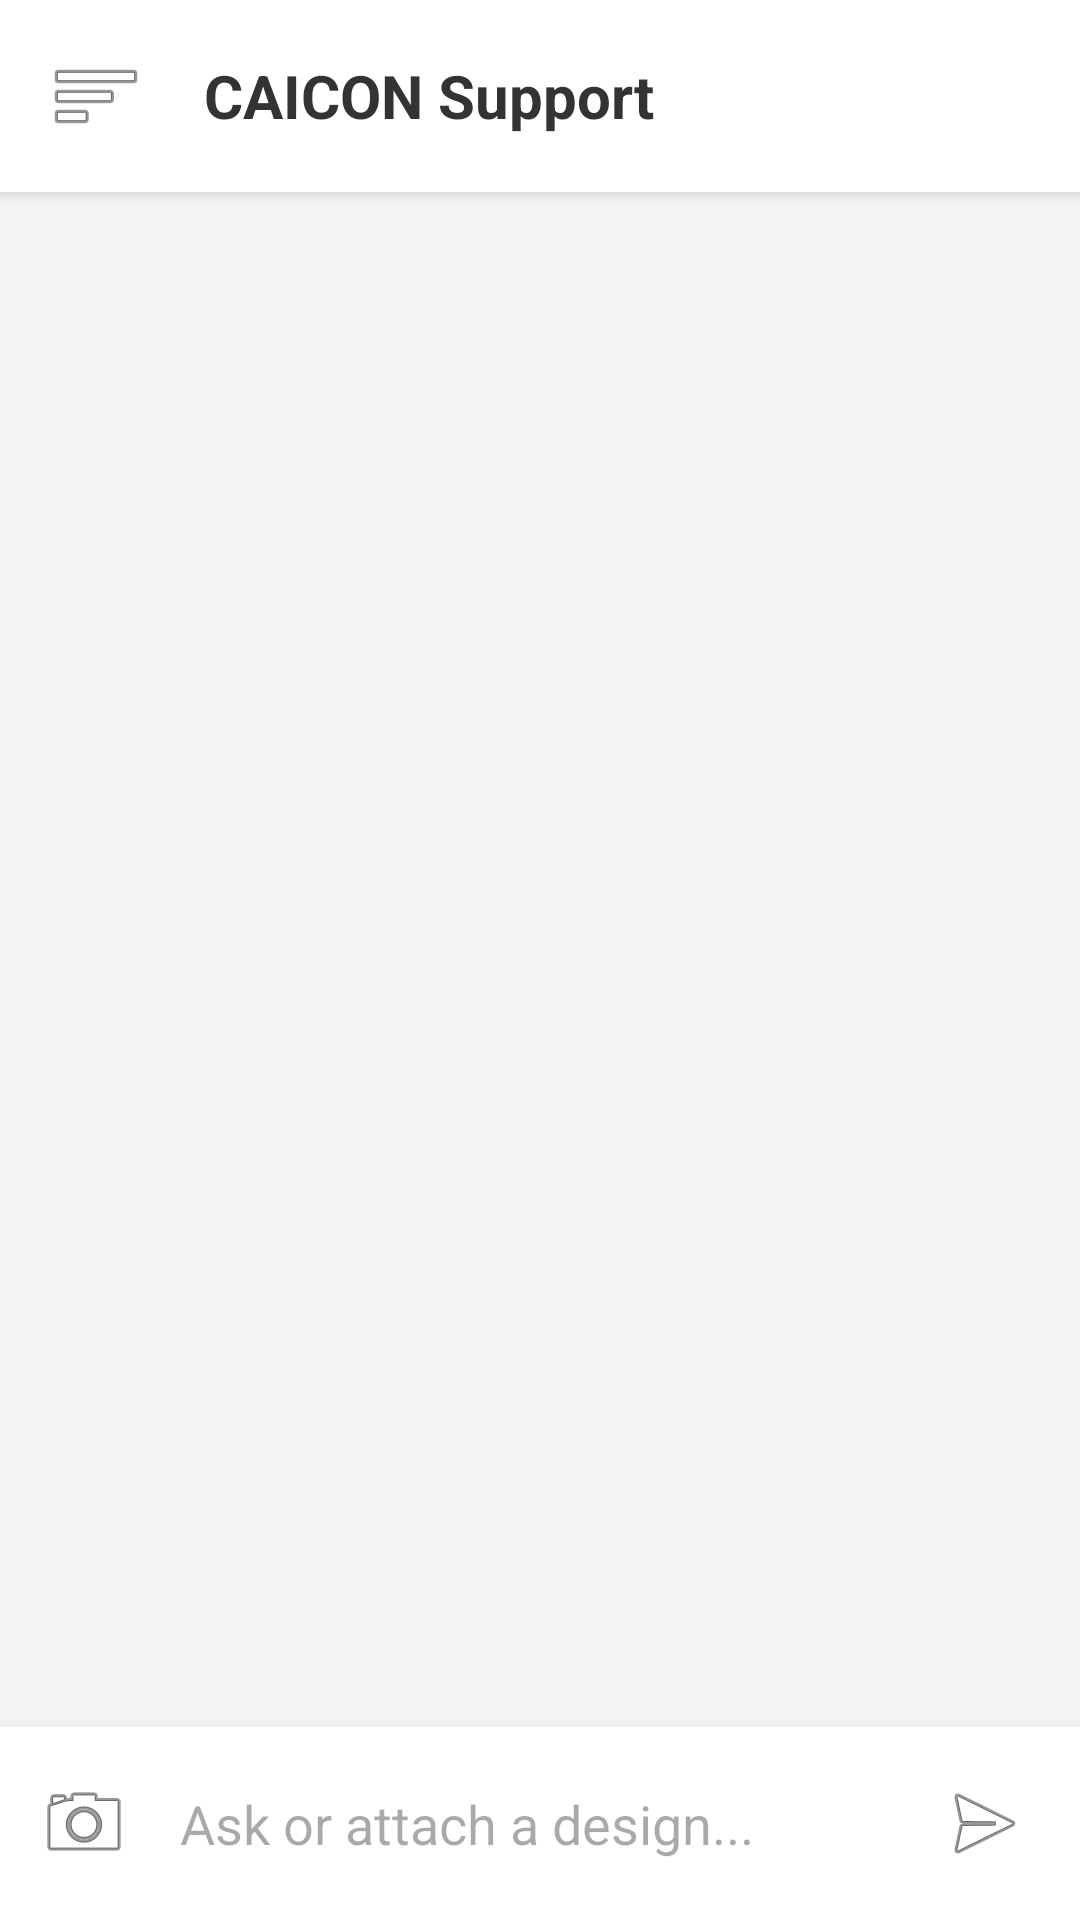

Where icons sit on this 1080px x 1920px app screen, as (x1, y1, x2, y2):
camera: (47, 1792, 121, 1851)
send: (954, 1793, 1016, 1854)
sort by size: (55, 70, 137, 123)
